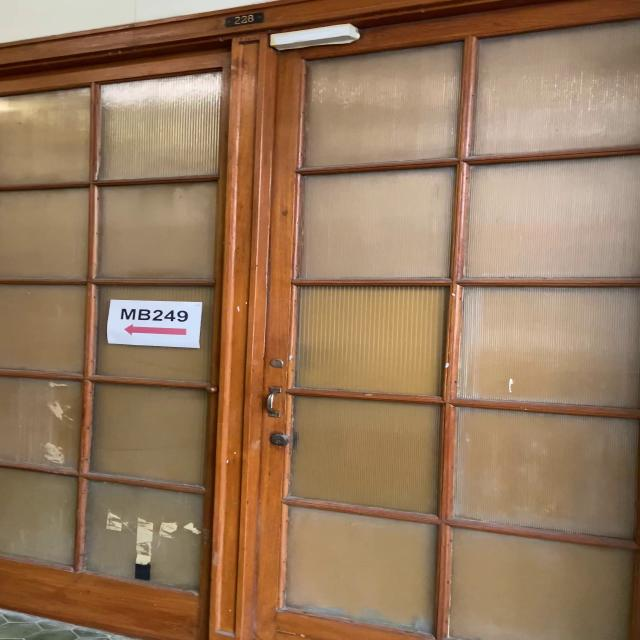room228: (222, 10, 265, 29)
